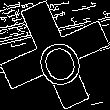O_NW: (24, 23, 86, 87)
